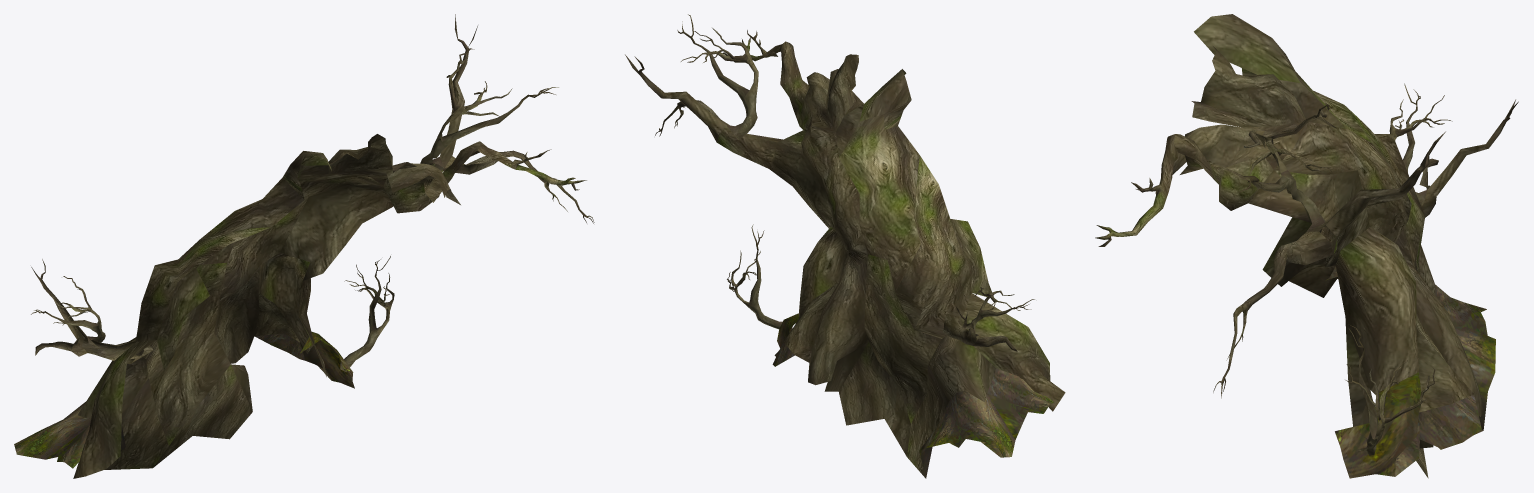
Rendered from S_Tree_Green144_A1.FBX.
3 views of the same model, side by side, from view 1: azimuth 30°, elevation 25°; view 2: azimuth 150°, elevation 25°; view 3: azimuth 270°, elevation 25° (orthographic). The views are drawn at different scales.
Parts seen in each view (by area): view 1: S_Tree_Green144_A1_1, S_Tree_Green144_A1_2; view 2: S_Tree_Green144_A1_1, S_Tree_Green144_A1_2; view 3: S_Tree_Green144_A1_1, S_Tree_Green144_A1_2.
Boxes of the visible parts, box(x1,y1,x2,y2) form: S_Tree_Green144_A1_1: box(31, 14, 594, 478); S_Tree_Green144_A1_2: box(14, 331, 354, 468); S_Tree_Green144_A1_1: box(625, 14, 1065, 478); S_Tree_Green144_A1_2: box(772, 313, 1053, 478); S_Tree_Green144_A1_1: box(1095, 14, 1518, 478); S_Tree_Green144_A1_2: box(1325, 266, 1495, 478).
Bounding box in the file's own units: 568 × 423 × 304.
